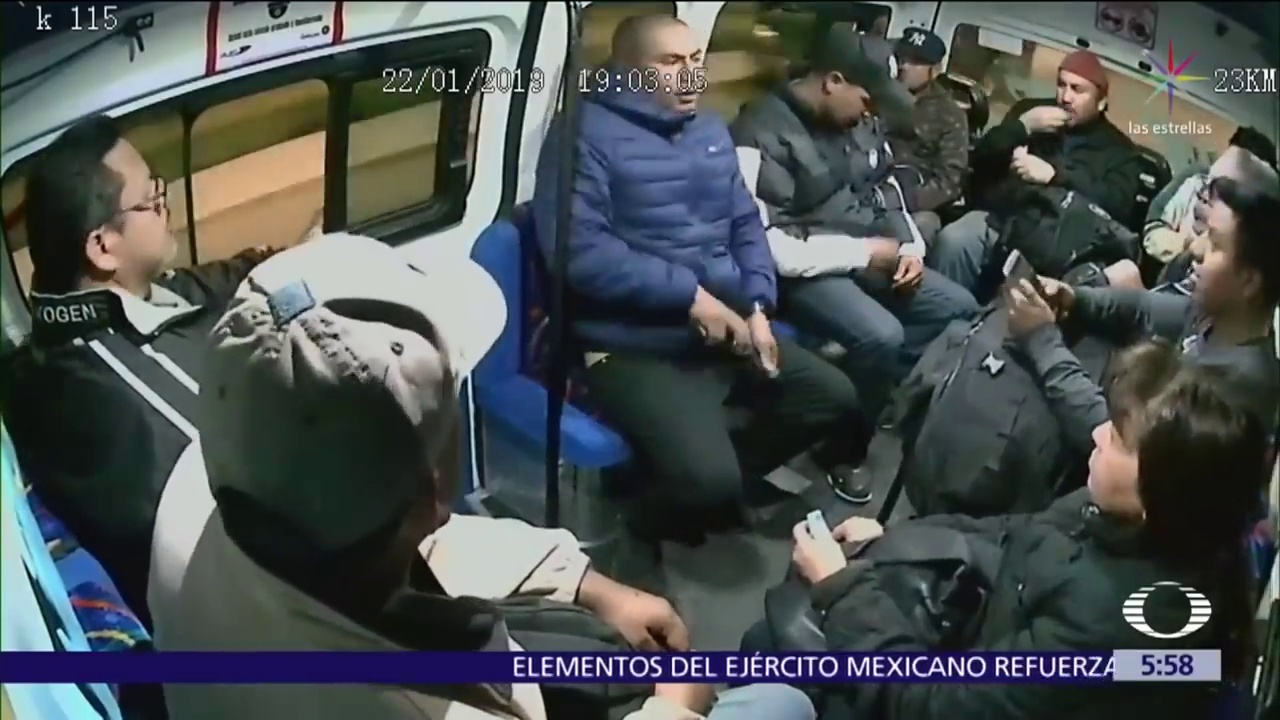pistol: (696, 321, 786, 381)
